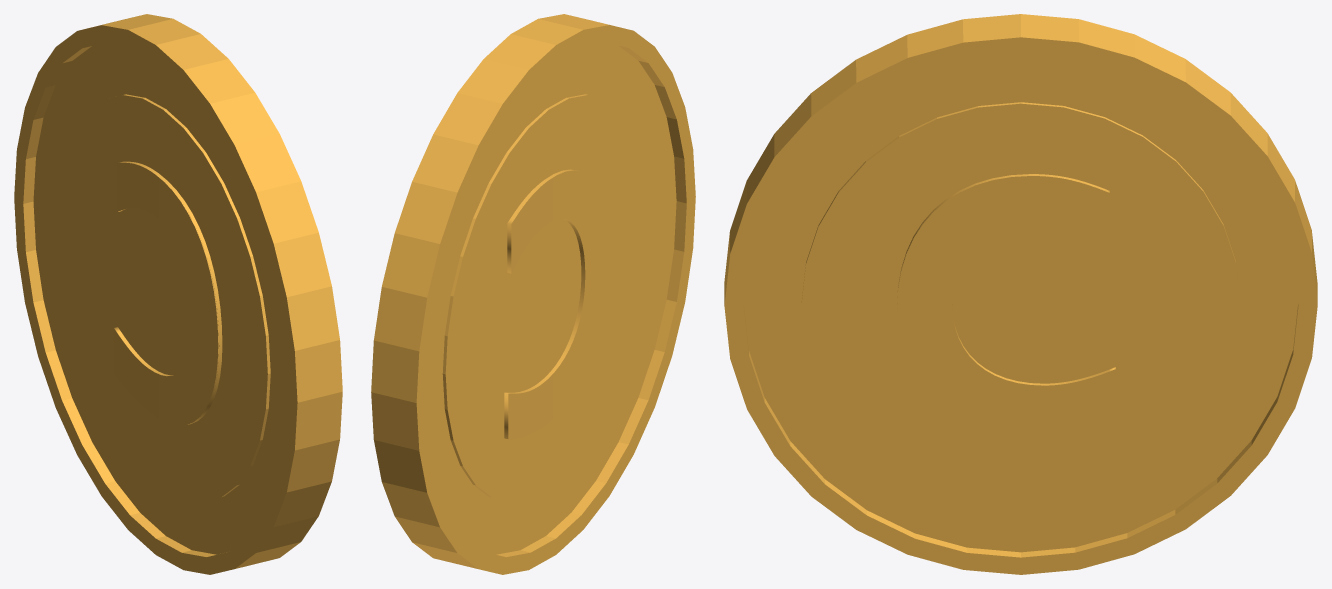
Rendered from coin6.fbx.
The picture shows the model from 3 angles, left to right: view 1: azimuth 30°, elevation 25°; view 2: azimuth 150°, elevation 25°; view 3: azimuth 270°, elevation 25°; orthographic projection. The views are drawn at different scales.
Visible parts, largest first — view 1: Cylinder.004; view 2: Cylinder.004; view 3: Cylinder.004.
Part boxes in pixels (x1,y1,x2,y2): Cylinder.004: (14, 14, 342, 574); Cylinder.004: (371, 14, 695, 574); Cylinder.004: (724, 14, 1317, 574).
Size of the model in its own units: 13.62 by 140 by 140.
